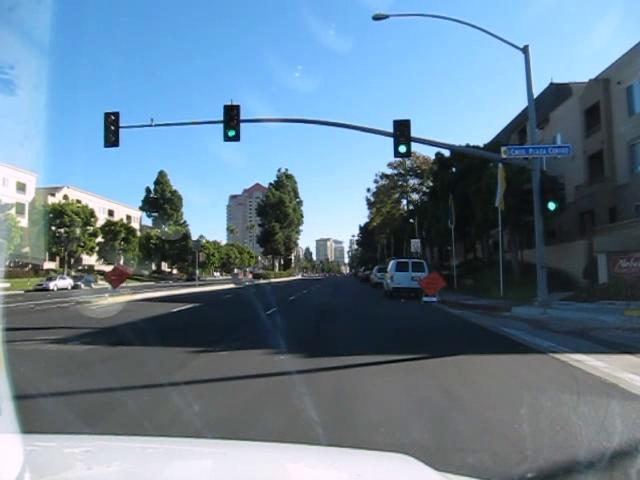speedLimitUrdbl: (410, 239, 421, 253)
